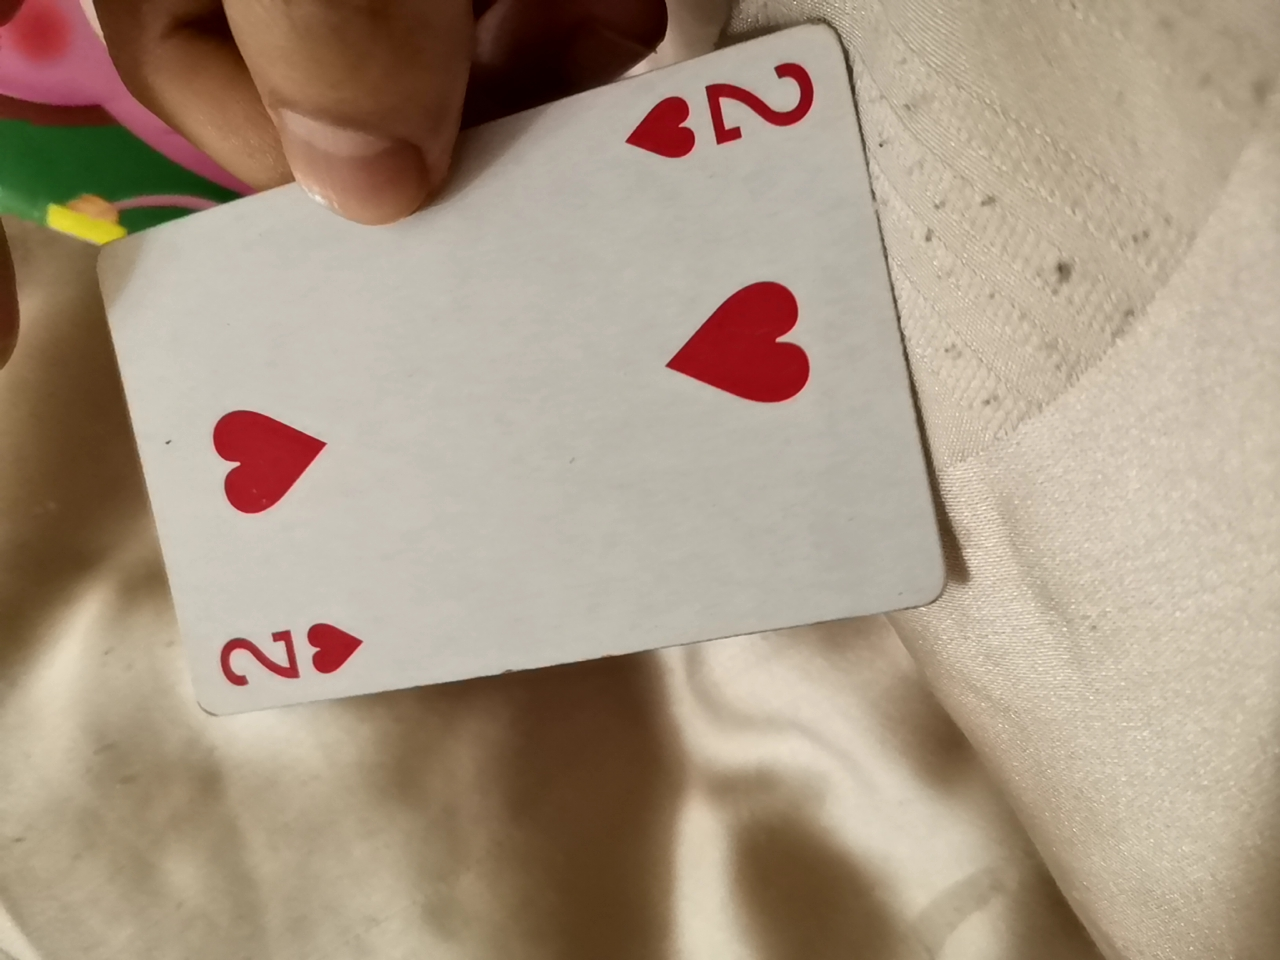hx 2: (81, 18, 948, 750)
